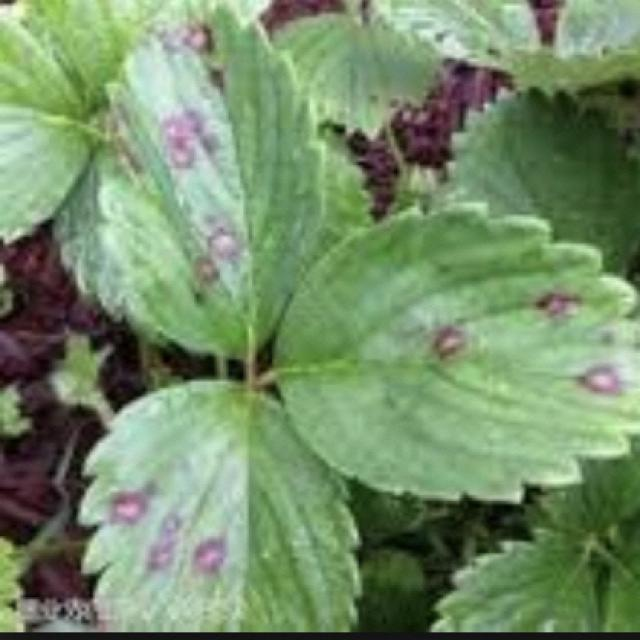Leaf Spot: (272, 201, 640, 504), (54, 0, 326, 361), (79, 375, 362, 633)
